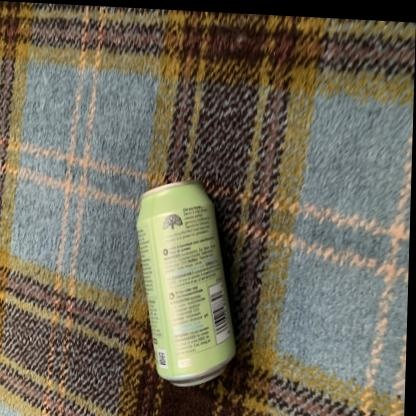trash: (137, 181, 234, 385)
